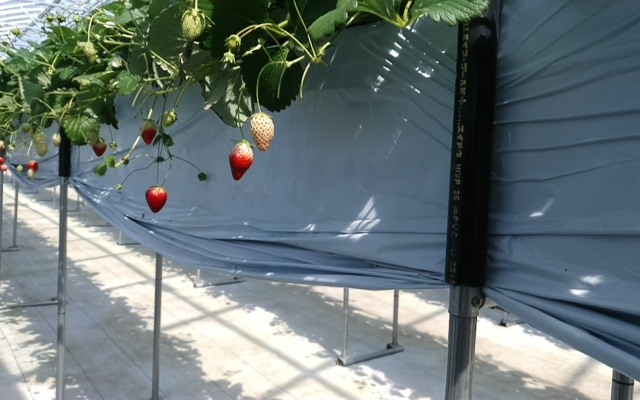GreenStrawberry: (251, 113, 276, 152), (179, 9, 206, 42), (82, 43, 99, 62), (162, 112, 178, 128)
MatureStrawberry: (229, 140, 253, 183), (145, 186, 168, 214), (142, 121, 157, 145), (92, 141, 107, 158)
